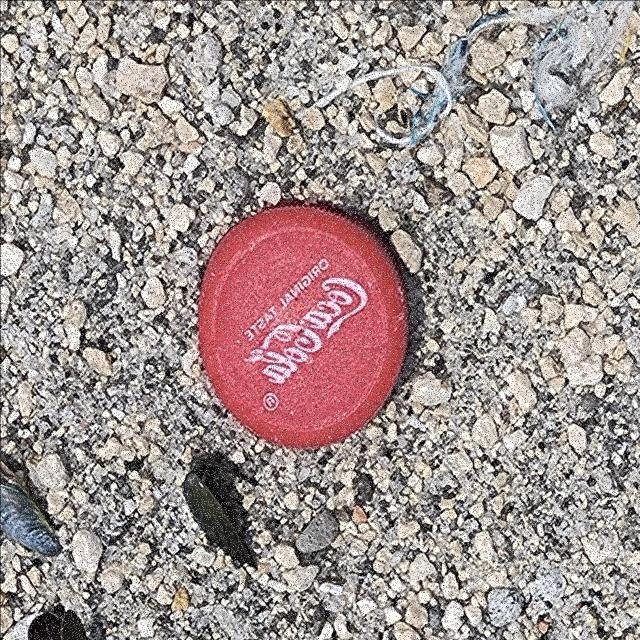plastic_waste: (196, 199, 413, 451)
